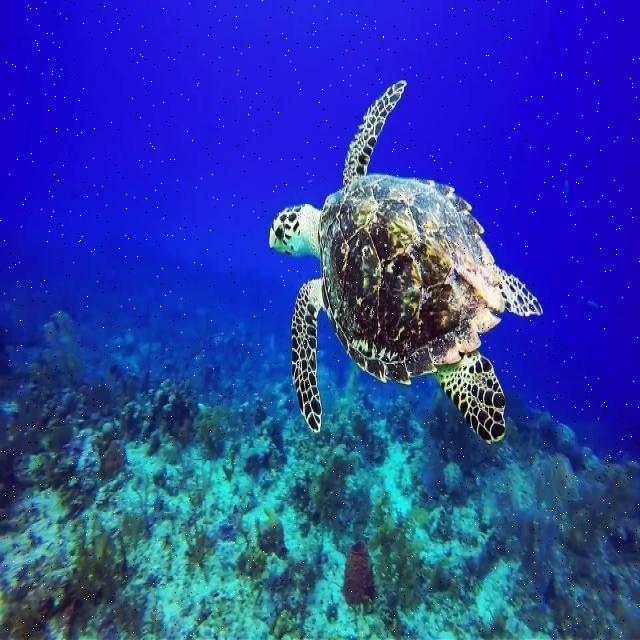fish: (269, 81, 543, 443)
